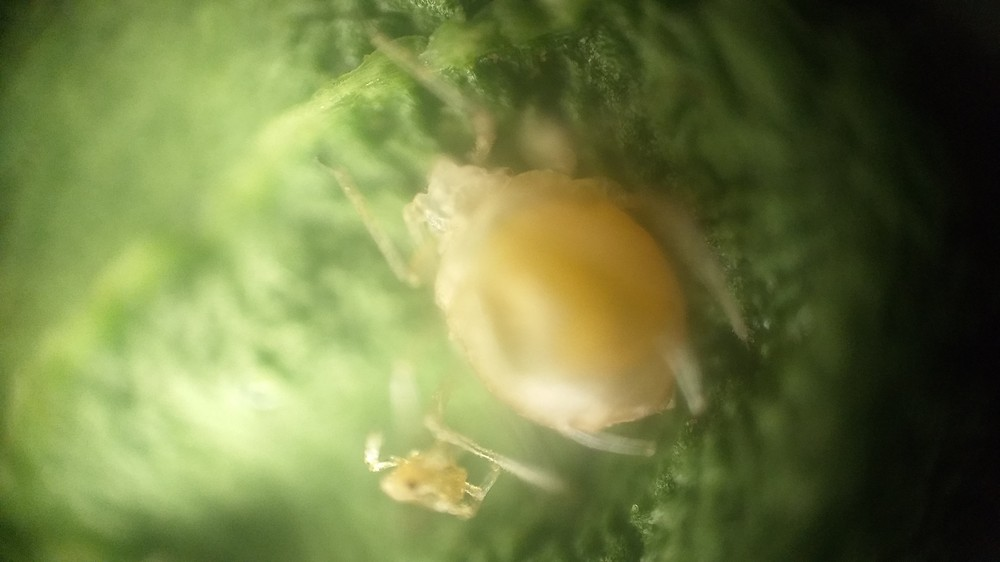Pulgon: (336, 37, 771, 482)
